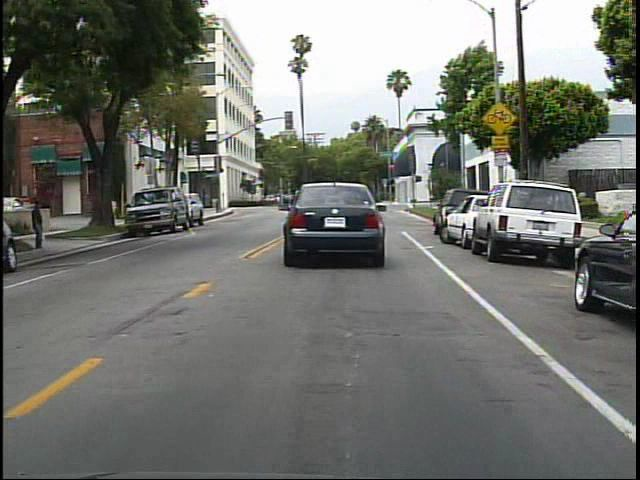person: (31, 196, 51, 253)
